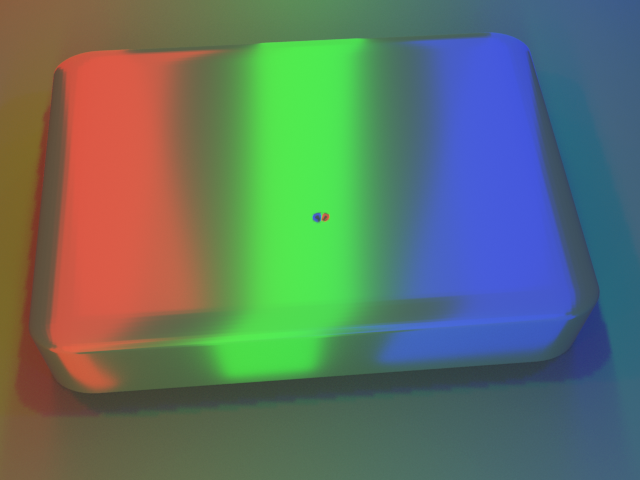dent: (298, 200, 339, 235)
